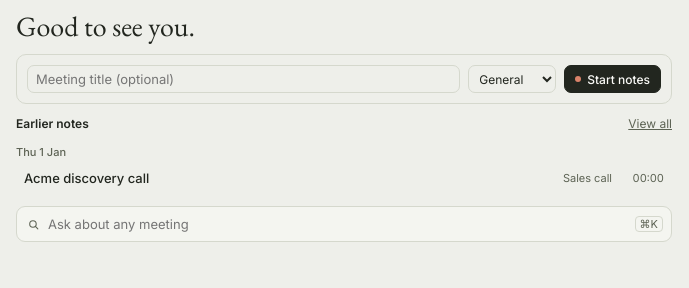
Test: HomeScreen › start_error_is_shown
Click the button "Start notes" at (613, 79), box [564,65,661,93]
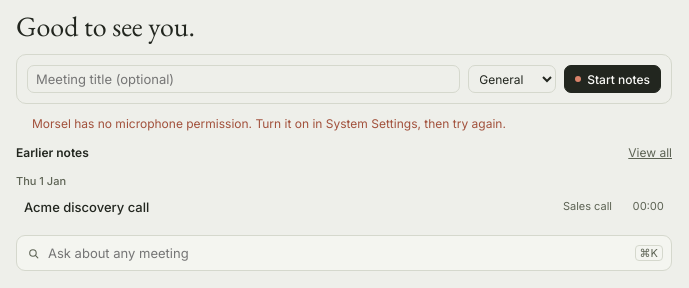
Expected: the message shows "microphone permission", [32,116,506,131]
